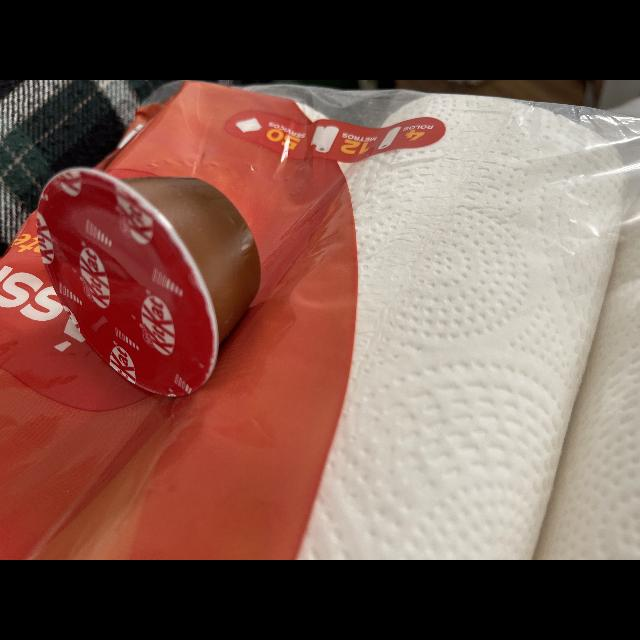intact_capsule: (29, 152, 289, 422)
